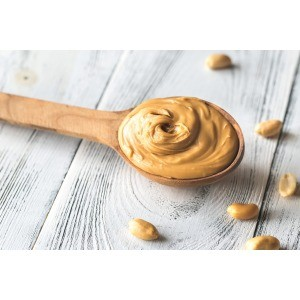peanut butter_brain food: (119, 96, 247, 187)
